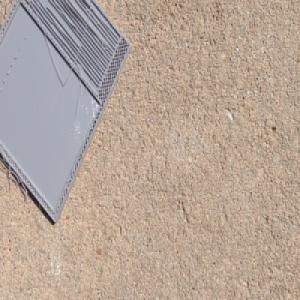PlasticPart: (0, 0, 132, 225)
